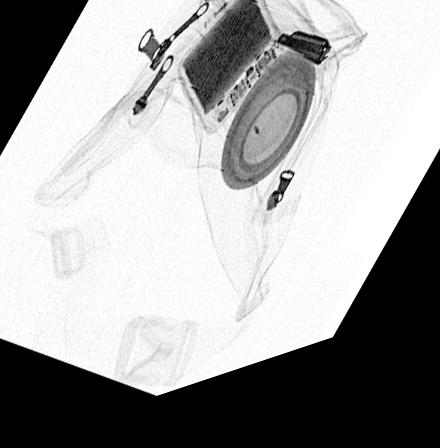Powerbank: (174, 0, 285, 150)
